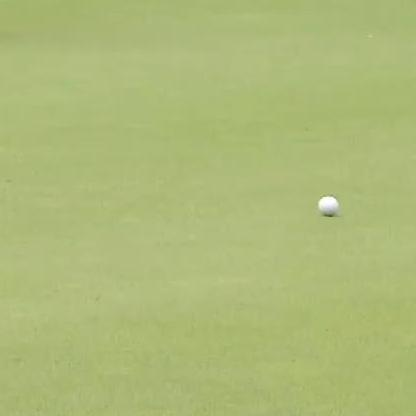golfball: (315, 193, 338, 216)
